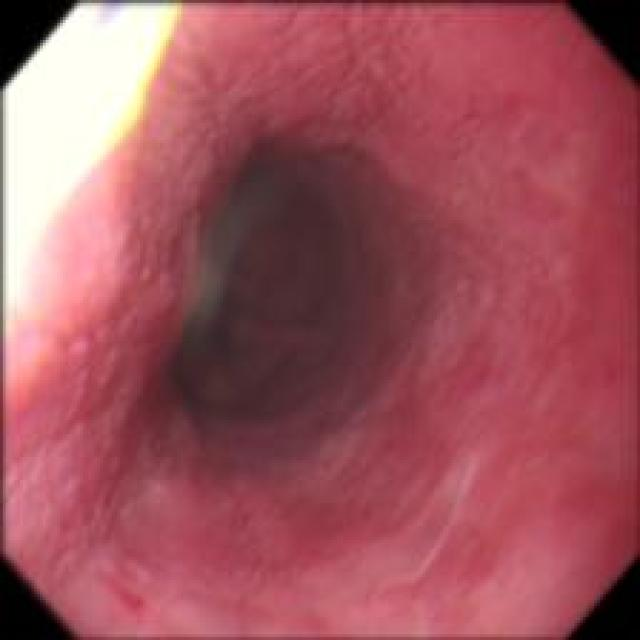blur: (1, 1, 638, 638), (2, 400, 631, 634), (176, 128, 418, 460), (421, 90, 628, 436)
contrast: (175, 128, 414, 456)
saturation: (1, 2, 179, 391)
